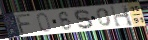0: (96, 7, 114, 27), (36, 12, 53, 33)
6: (58, 11, 74, 31)
F: (15, 13, 33, 36)
H: (109, 4, 135, 28)
S: (73, 8, 94, 30)
